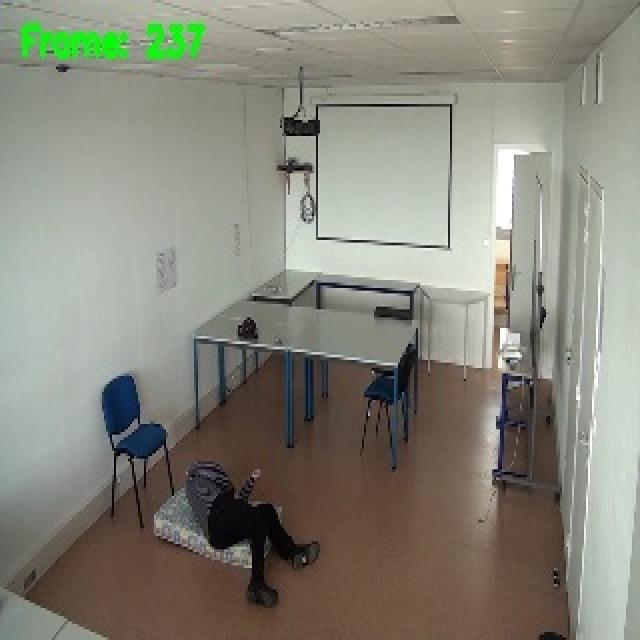fall: (185, 458, 322, 614)
